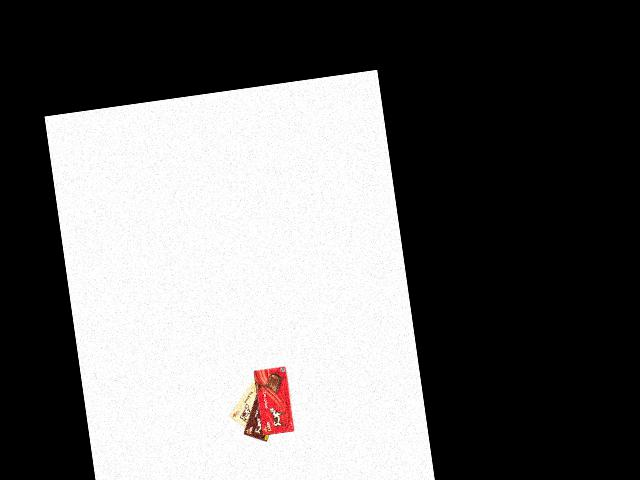chocolate: (222, 371, 268, 437)
